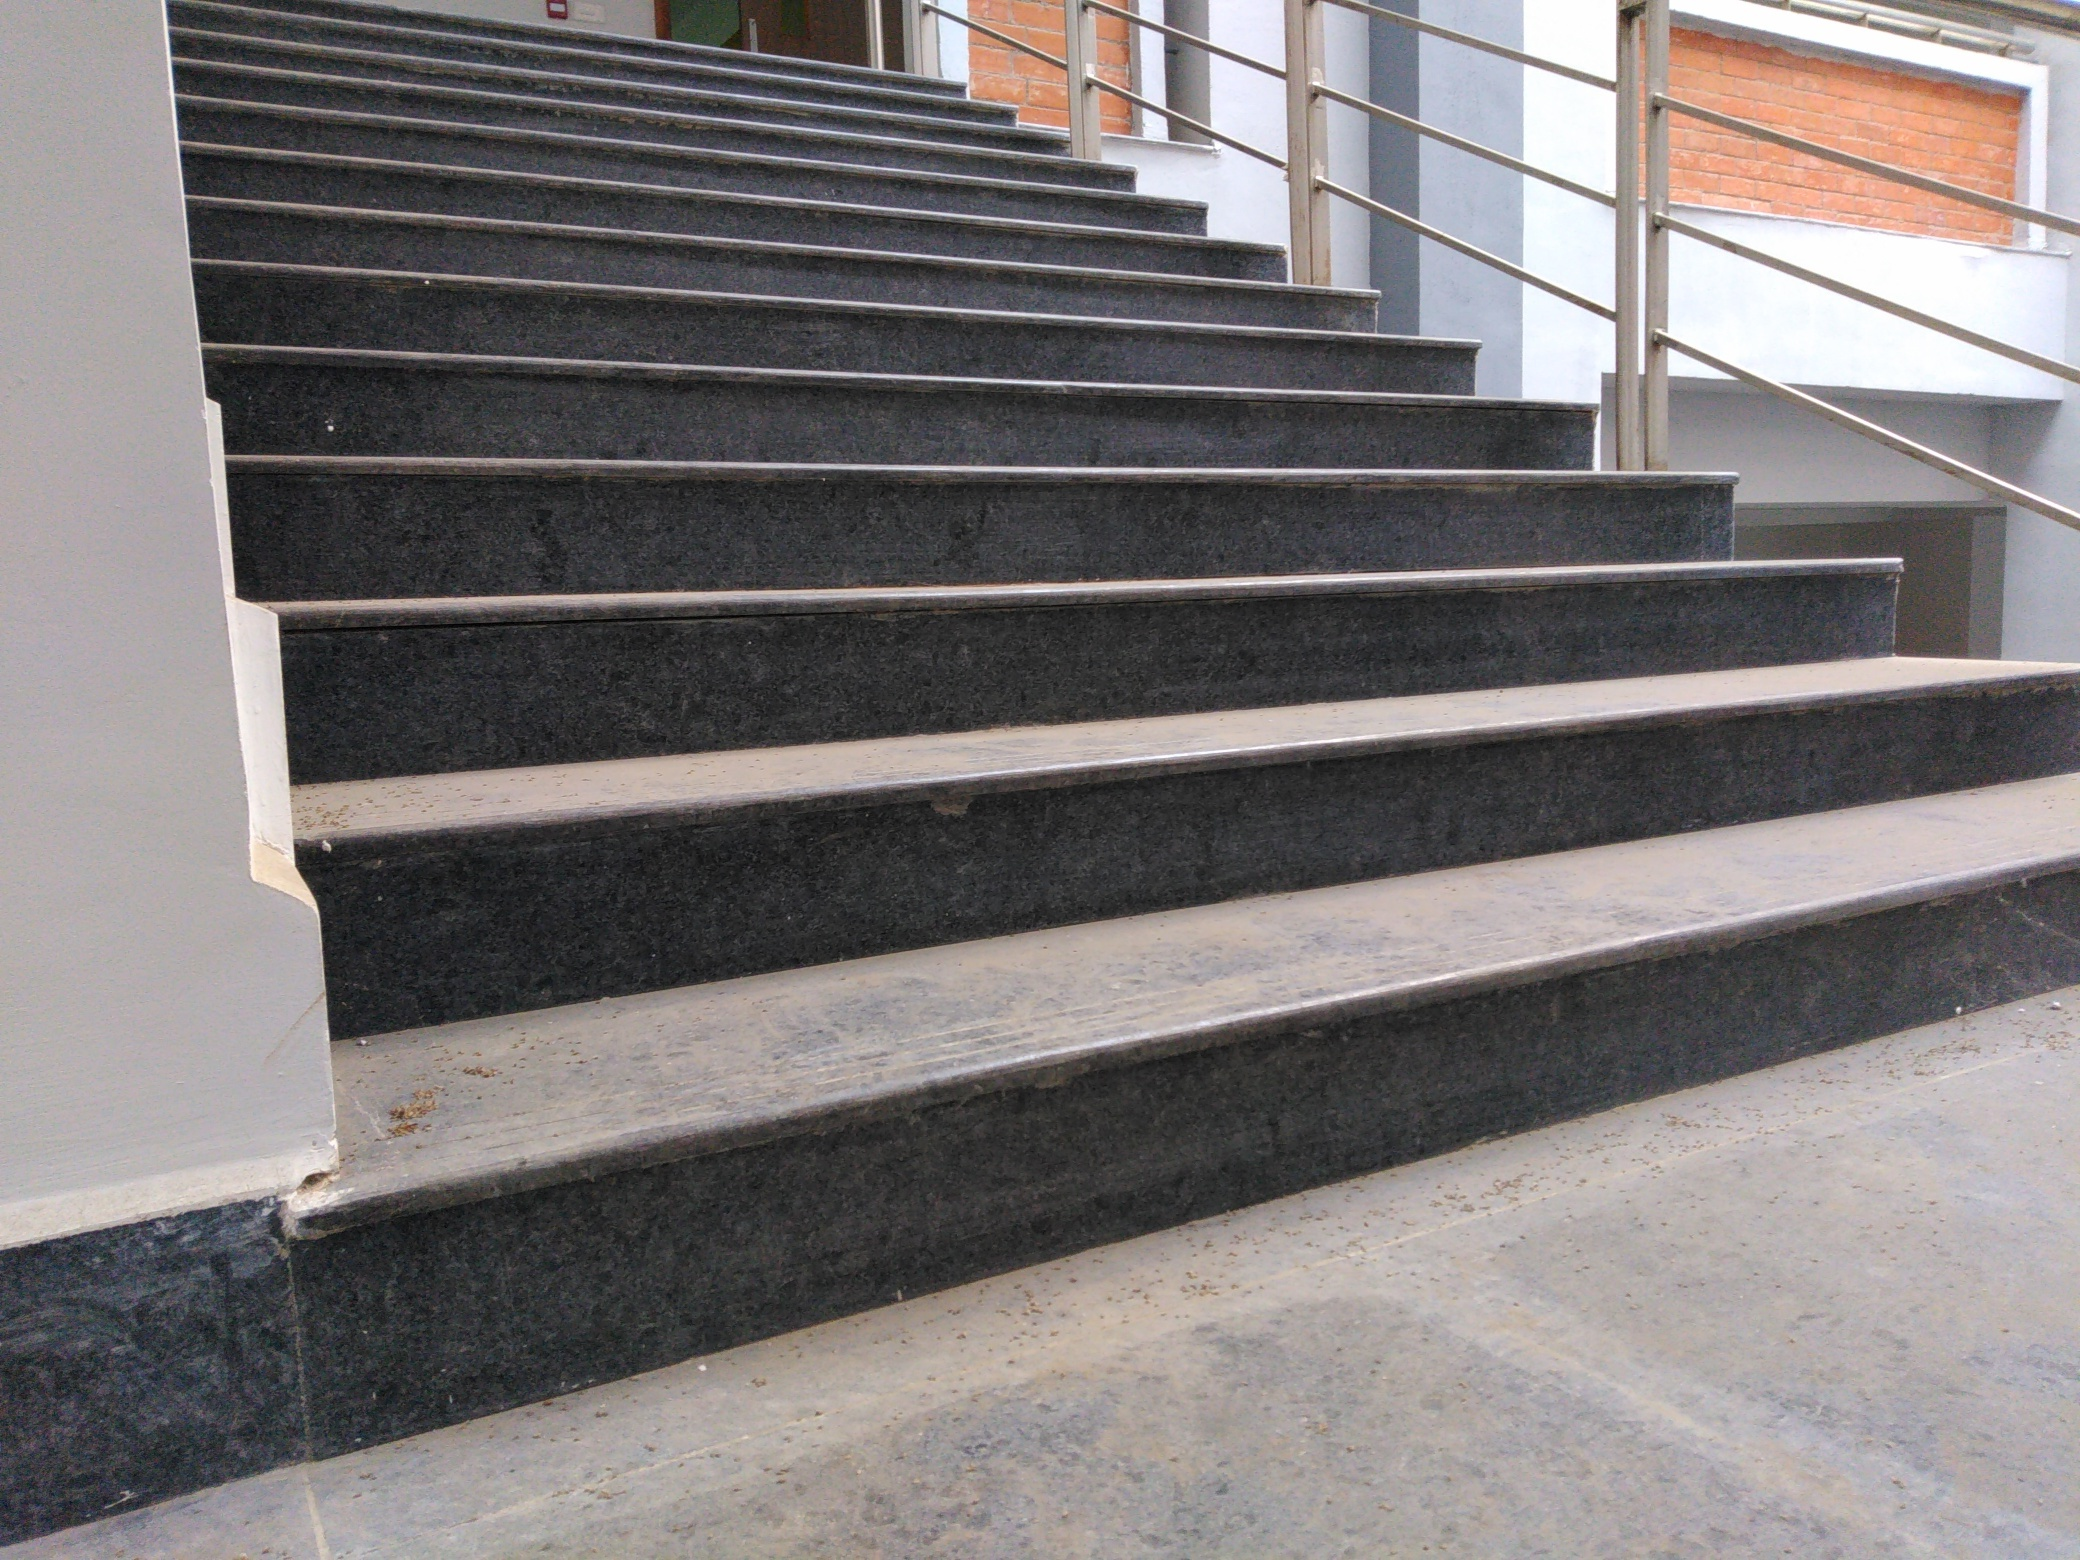stairs_up: (223, 52, 2023, 1154)
